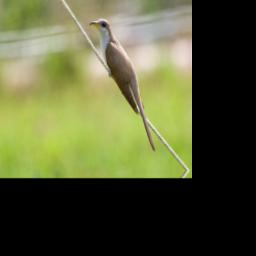Cuckoo: (88, 16, 158, 158)
